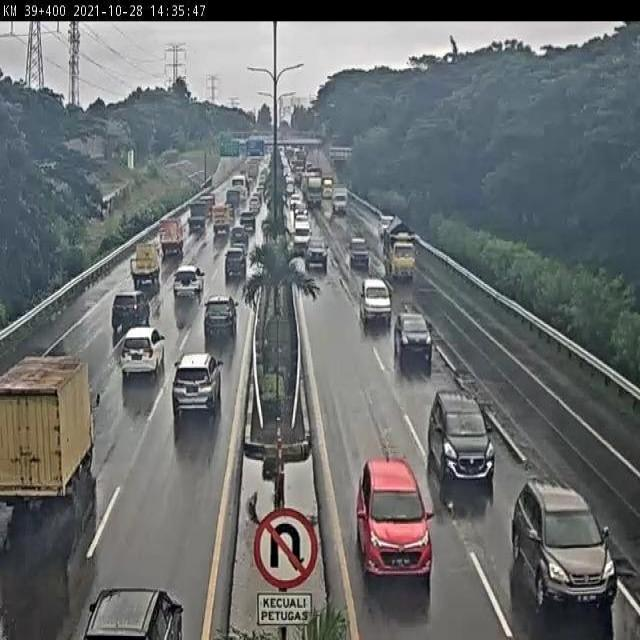big truck: (306, 176, 322, 209)
car: (535, 489, 608, 614), (428, 389, 499, 468), (363, 471, 427, 557), (92, 576, 172, 640), (173, 352, 216, 428), (121, 324, 162, 389), (105, 307, 141, 356), (395, 300, 425, 351), (199, 314, 228, 366), (128, 241, 153, 299), (355, 274, 385, 322), (166, 280, 200, 321), (220, 252, 245, 295), (349, 231, 372, 269), (226, 228, 244, 253), (294, 217, 308, 243)
small truck: (9, 373, 72, 532), (155, 221, 181, 268), (384, 220, 405, 272), (190, 203, 207, 232), (303, 240, 325, 260), (212, 208, 223, 243), (333, 188, 345, 213)
